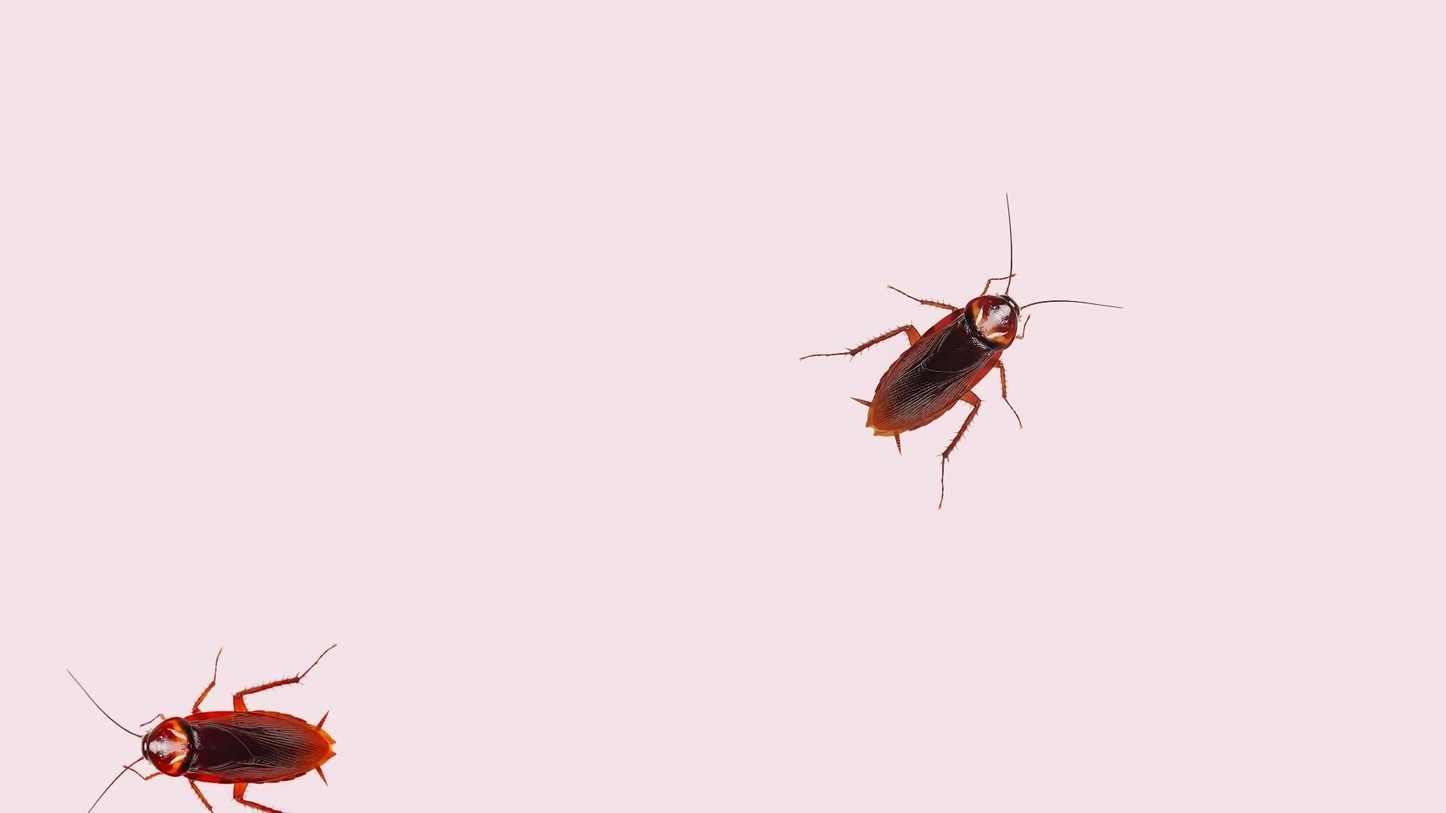cockroach: (67, 653, 337, 813), (861, 251, 1066, 461)
